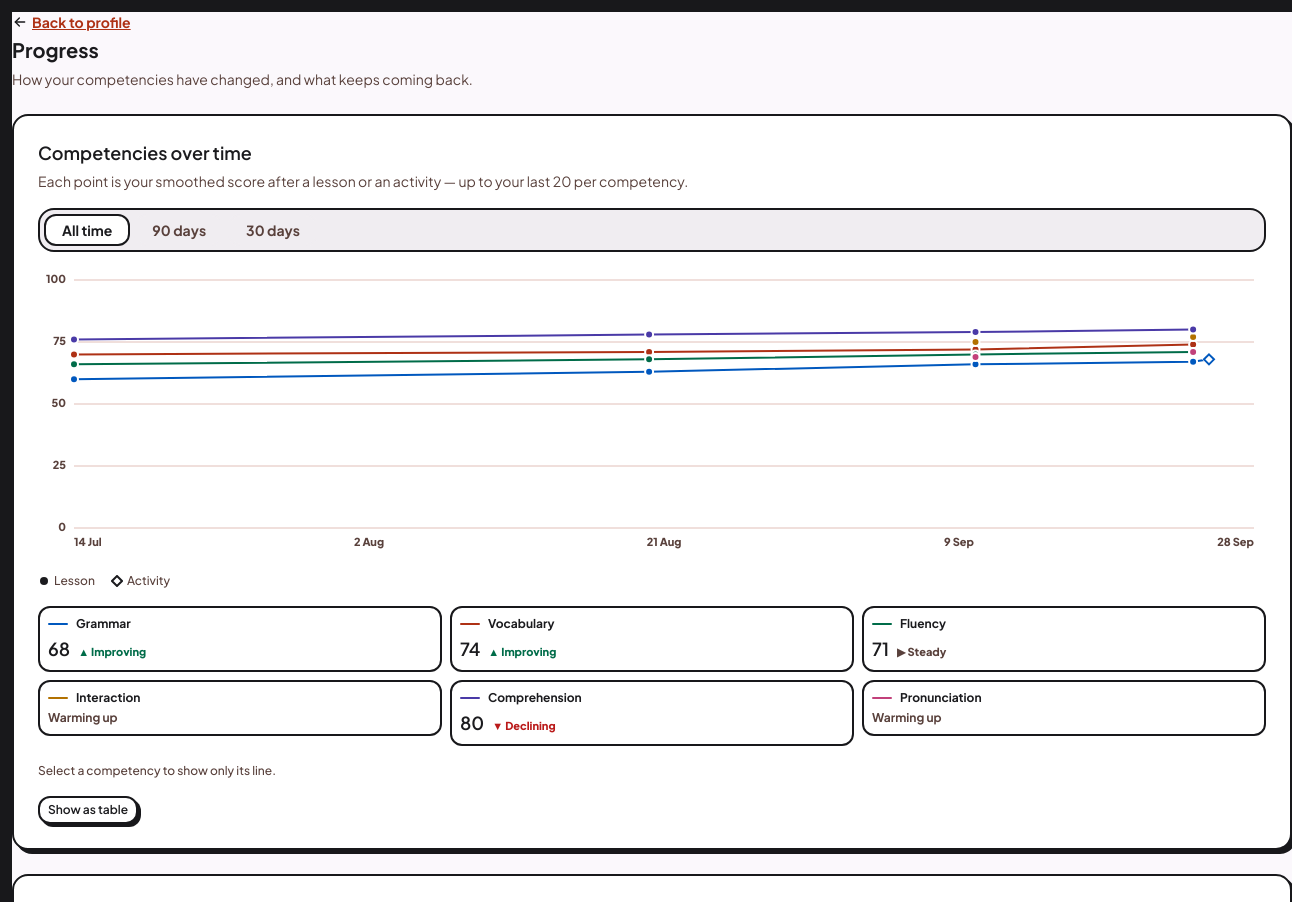
Scenario: ProgressScreen › first_toggle_isolates_and_show_all_restores
Expected: the button "Show all" is not shown
Click the button with aria-label "Grammar: 68, improving": [103, 624] box [38,606,442,672]
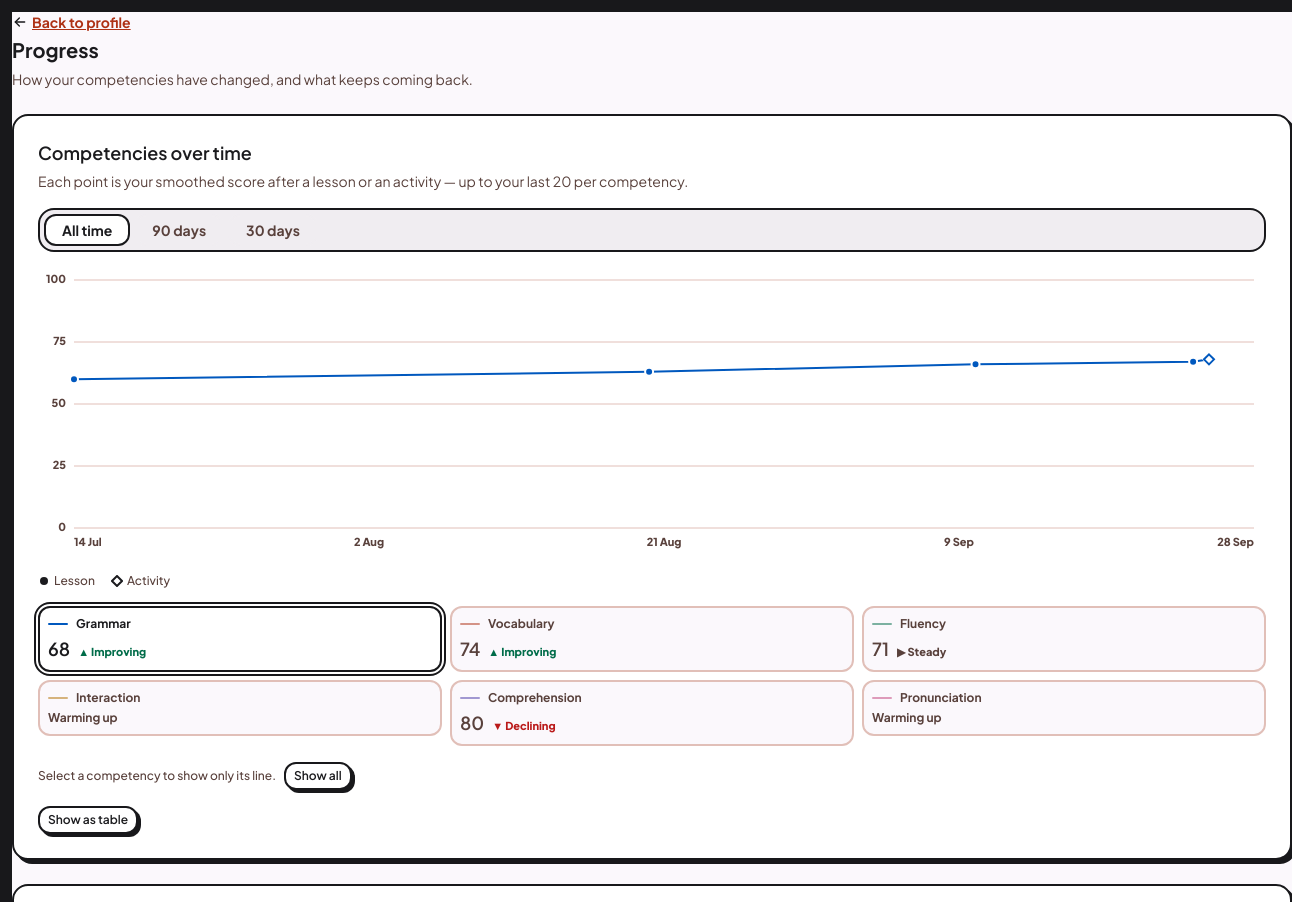
Expected: the button with aria-label "Fluency: 71, steady" is not pressed, [862,606,1266,672]
Click the button "Show all": [318, 776] box [284,762,352,790]
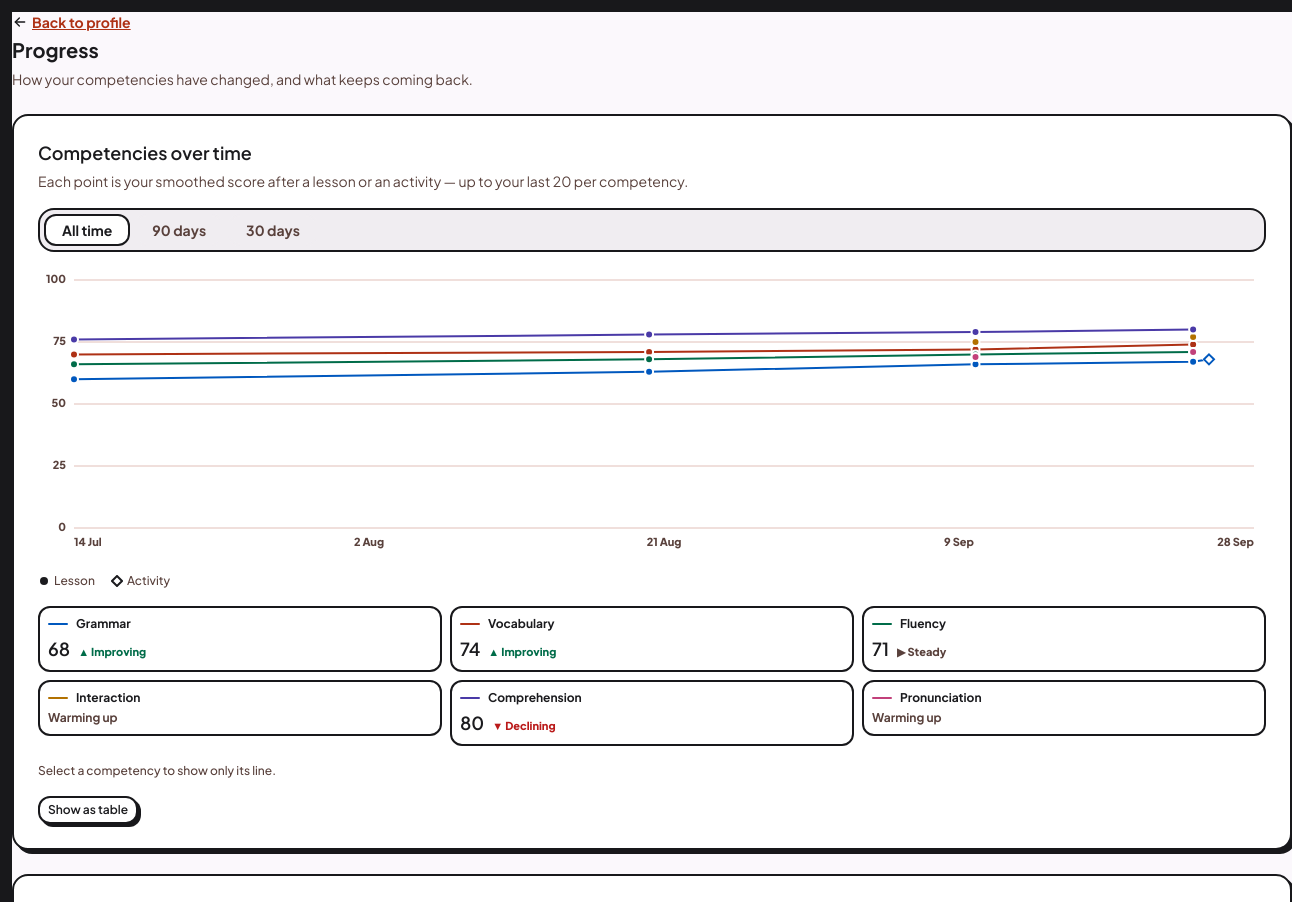
Expected: the button "Show all" is gone
